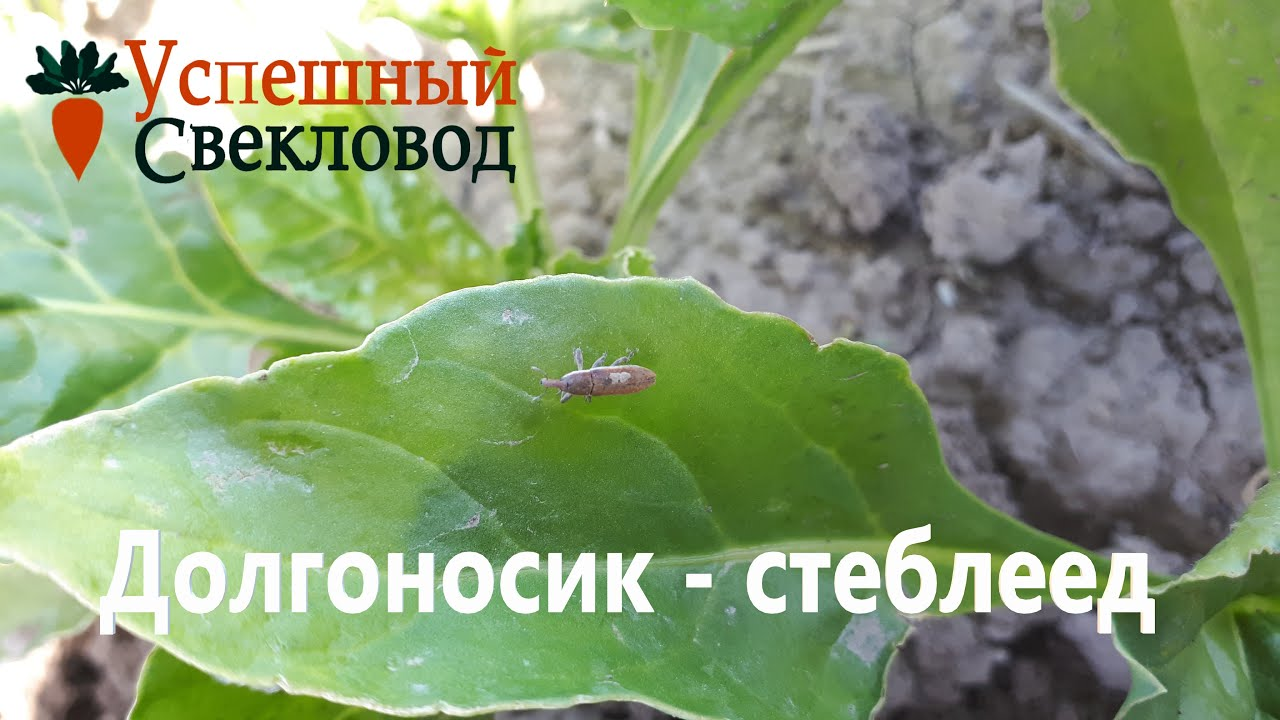dolgonosik: (527, 346, 661, 408)
